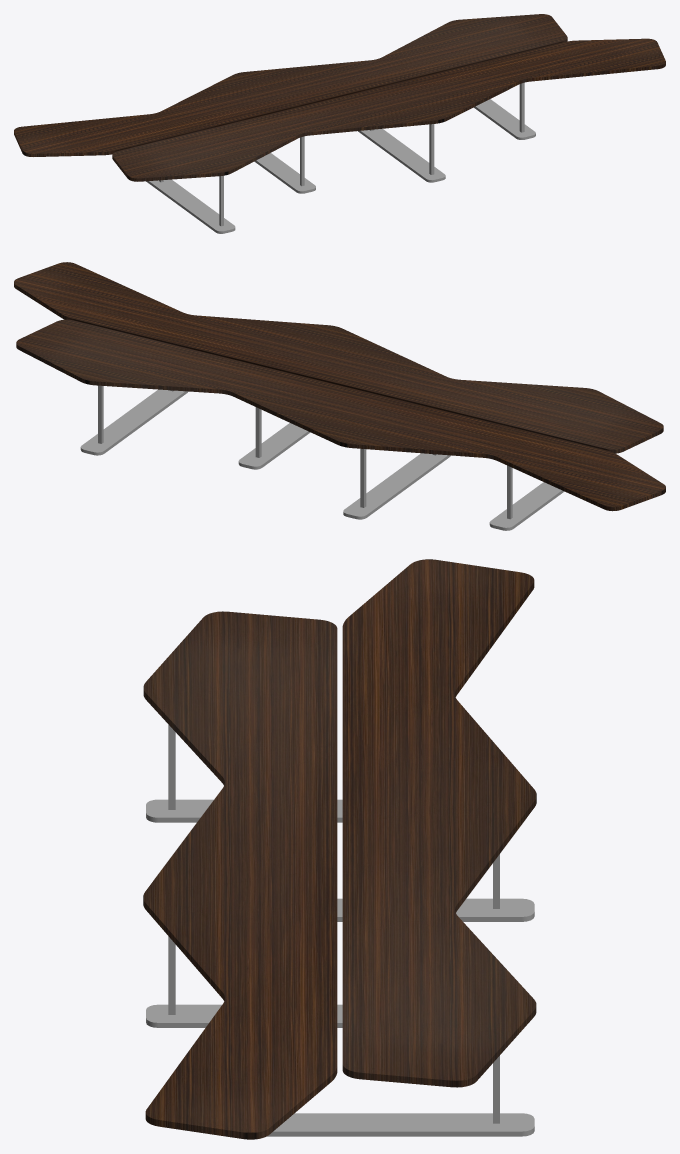
File: Desk_coworking.fbx
3 renders of one model, top to bottom at view 1: azimuth 30°, elevation 25°; view 2: azimuth 150°, elevation 25°; view 3: azimuth 270°, elevation 25°, orthographic. The views are drawn at different scales.
Visible parts, largest first — view 1: Desk_B, Desk_A, SoporteDeskCoW, SoporteDeskCoW3, SoporteDeskCoW2, SoporteDeskCoW1; view 2: Desk_A, Desk_B, SoporteDeskCoW1, SoporteDeskCoW2, SoporteDeskCoW3, SoporteDeskCoW; view 3: Desk_A, Desk_B, SoporteDeskCoW2, SoporteDeskCoW, SoporteDeskCoW1, SoporteDeskCoW3.
Boxes of the visible parts, <box> form: Desk_B: <box>112,38,665,181</box>; Desk_A: <box>14,14,567,156</box>; SoporteDeskCoW: <box>358,124,445,182</box>; SoporteDeskCoW3: <box>146,175,235,233</box>; SoporteDeskCoW2: <box>474,82,535,139</box>; SoporteDeskCoW1: <box>254,136,315,193</box>; Desk_A: <box>16,319,665,511</box>; Desk_B: <box>14,262,663,453</box>; SoporteDeskCoW1: <box>343,448,450,519</box>; SoporteDeskCoW2: <box>80,385,188,455</box>; SoporteDeskCoW3: <box>489,465,564,530</box>; SoporteDeskCoW: <box>238,407,310,469</box>; Desk_A: <box>342,559,536,1087</box>; Desk_B: <box>143,611,337,1139</box>; SoporteDeskCoW2: <box>267,1056,534,1136</box>; SoporteDeskCoW: <box>146,936,342,1027</box>; SoporteDeskCoW1: <box>337,854,534,921</box>; SoporteDeskCoW3: <box>146,724,342,822</box>.
Bounding box in the file's own units: 142 × 14.27 × 41.15.
